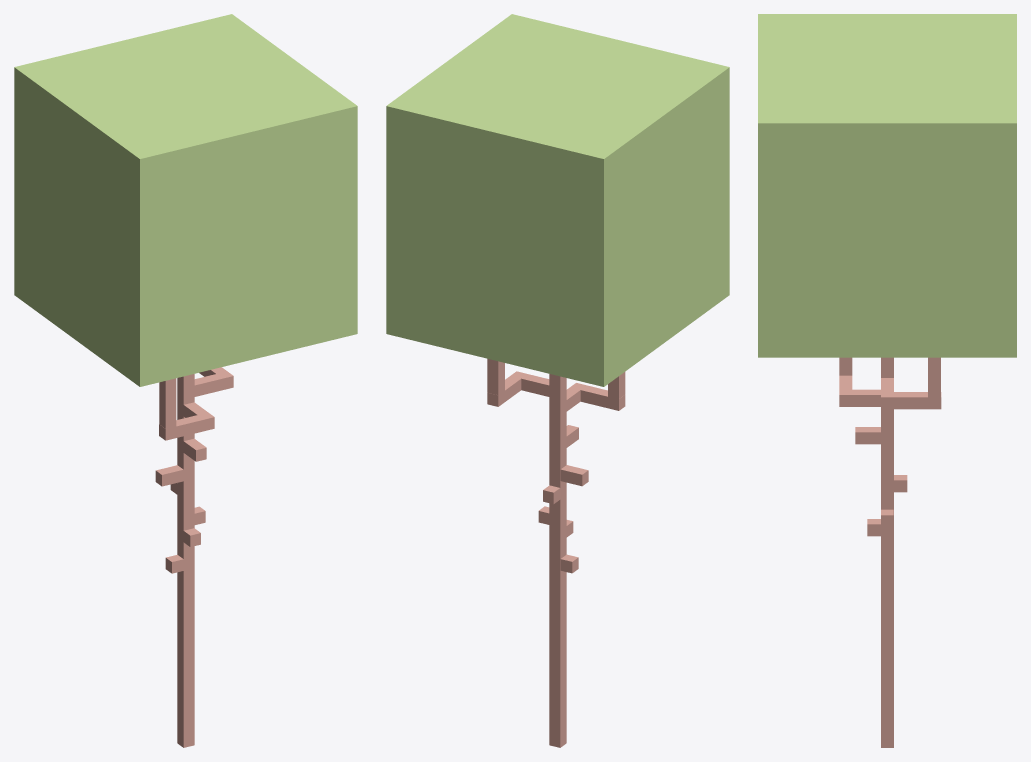
Rendered from Bush Tree.glb.
3 views of the same model, side by side, from view 1: azimuth 30°, elevation 25°; view 2: azimuth 150°, elevation 25°; view 3: azimuth 270°, elevation 25° (orthographic). The views are drawn at different scales.
Parts seen in each view (by area): view 1: Cube.013, Cube.012; view 2: Cube.013, Cube.012; view 3: Cube.013, Cube.012.
Boxes of the visible parts, x1,y1,x2,y2 form: Cube.013: (14,14,357,386); Cube.012: (155,367,233,747); Cube.013: (386,14,729,386); Cube.012: (487,358,625,747); Cube.013: (758,14,1016,357); Cube.012: (839,357,941,747).
Size of the model in its own units: 1.02 by 2.95 by 1.02.
